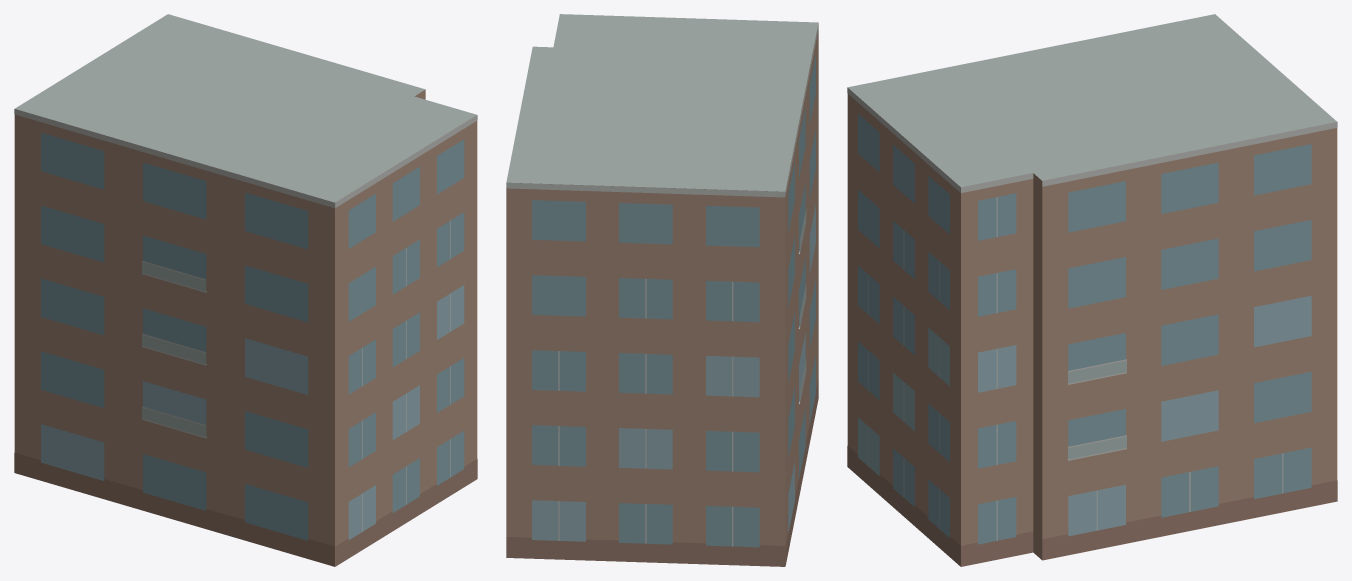
Rendered from survey-upis-32700628.glb.
3 views of the same model, side by side, from view 1: azimuth 30°, elevation 25°; view 2: azimuth 150°, elevation 25°; view 3: azimuth 270°, elevation 25° (orthographic). The views are drawn at different scales.
Visible parts, largest first — view 1: survey-upis-32700628.tmp; view 2: survey-upis-32700628.tmp; view 3: survey-upis-32700628.tmp.
Boxes of the visible parts, x1,y1,x2,y2 form: survey-upis-32700628.tmp: (14, 14, 477, 566); survey-upis-32700628.tmp: (506, 14, 818, 566); survey-upis-32700628.tmp: (847, 14, 1337, 566).
Size of the model in its own units: 15.49 by 15.8 by 18.5.
